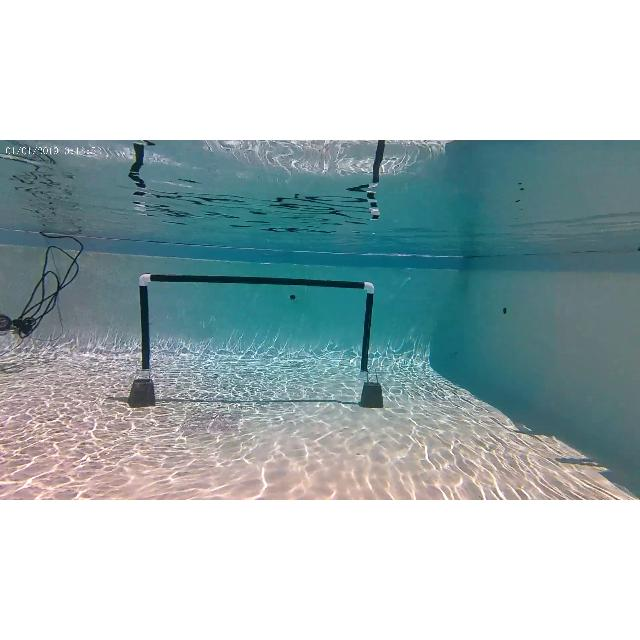prequal gate: (138, 274, 376, 378)
prequal gate leg l: (138, 274, 156, 412)
prequal gate leg r: (362, 278, 388, 408)
